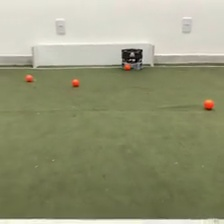ball: (202, 97, 214, 110), (24, 72, 34, 82), (71, 77, 80, 87), (123, 63, 131, 71)
goal: (30, 42, 156, 69)
robot: (120, 47, 144, 72)
